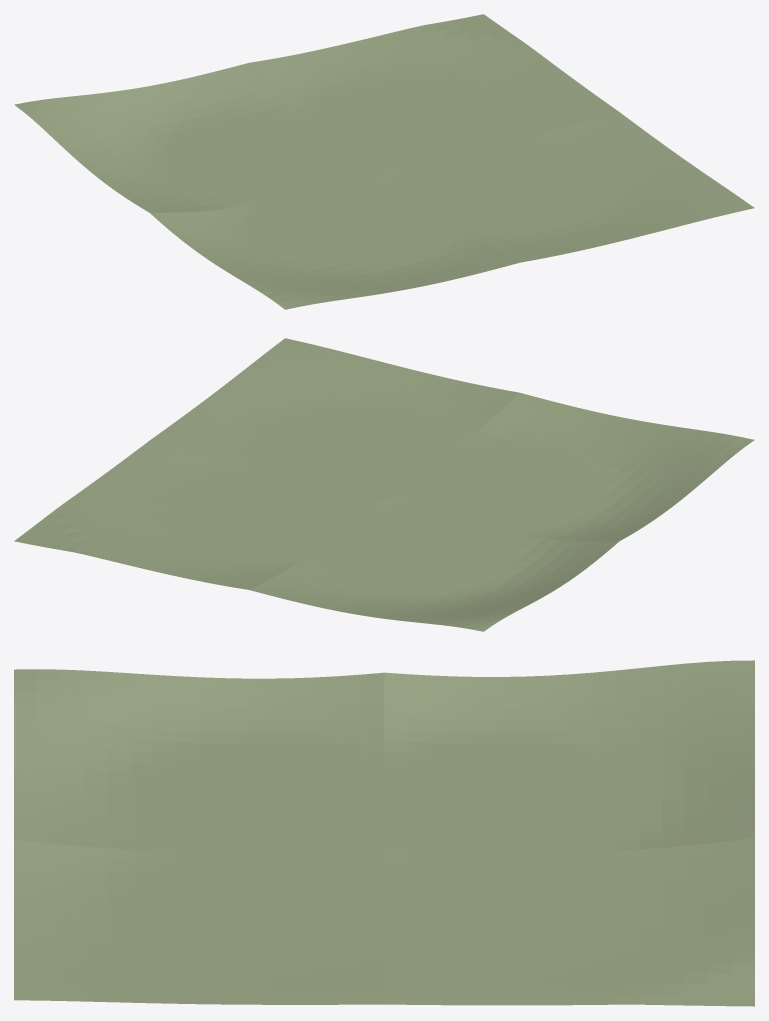
The model's file is gardens-0-6.glb.
3 renders of one model, top to bottom at view 1: azimuth 30°, elevation 25°; view 2: azimuth 150°, elevation 25°; view 3: azimuth 270°, elevation 25°, orthographic. The views are drawn at different scales.
Parts seen in each view (by area): view 1: gardens-0-6; view 2: gardens-0-6; view 3: gardens-0-6.
Boxes of the visible parts, x1,y1,x2,y2 form: gardens-0-6: [14, 14, 754, 309]; gardens-0-6: [14, 338, 754, 631]; gardens-0-6: [14, 660, 754, 1006].
Size of the model in its own units: 256 by 12.91 by 256.
